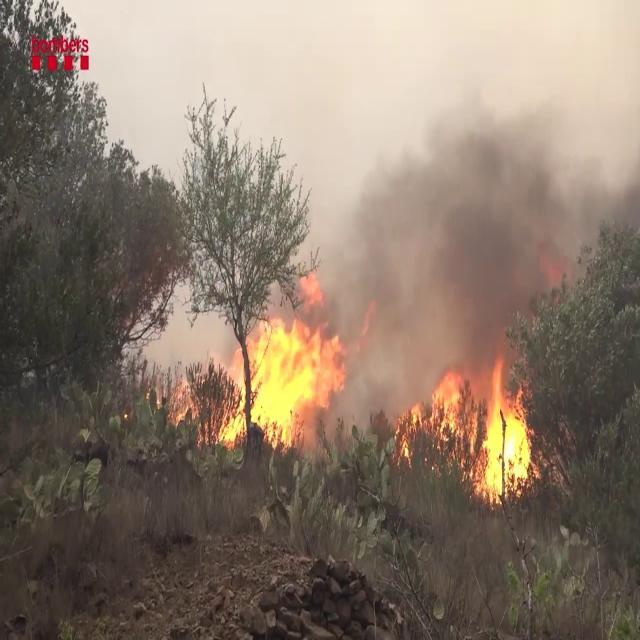Fire: (396, 354, 540, 502), (213, 309, 345, 452)
Smoke: (320, 12, 594, 376)
